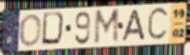9: (74, 11, 92, 45)
A: (121, 9, 147, 43)
C: (146, 5, 170, 44)
D: (40, 11, 68, 47)
M: (93, 7, 121, 46)
O: (18, 13, 43, 48)
